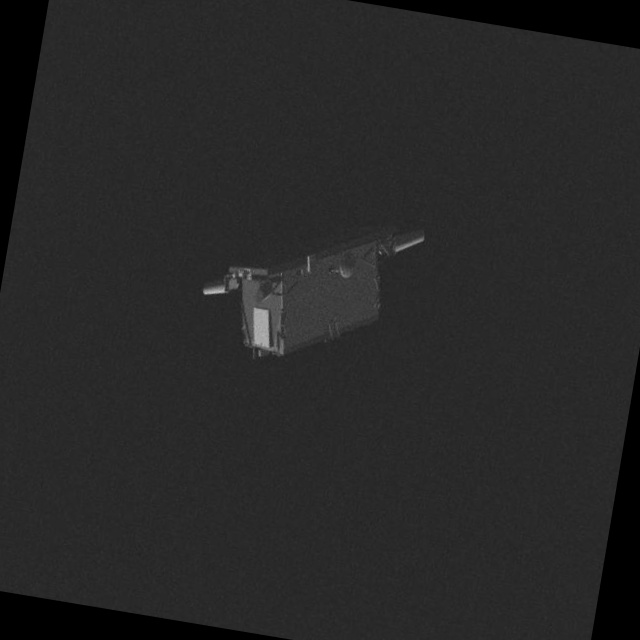satellite: (184, 188, 431, 383)
